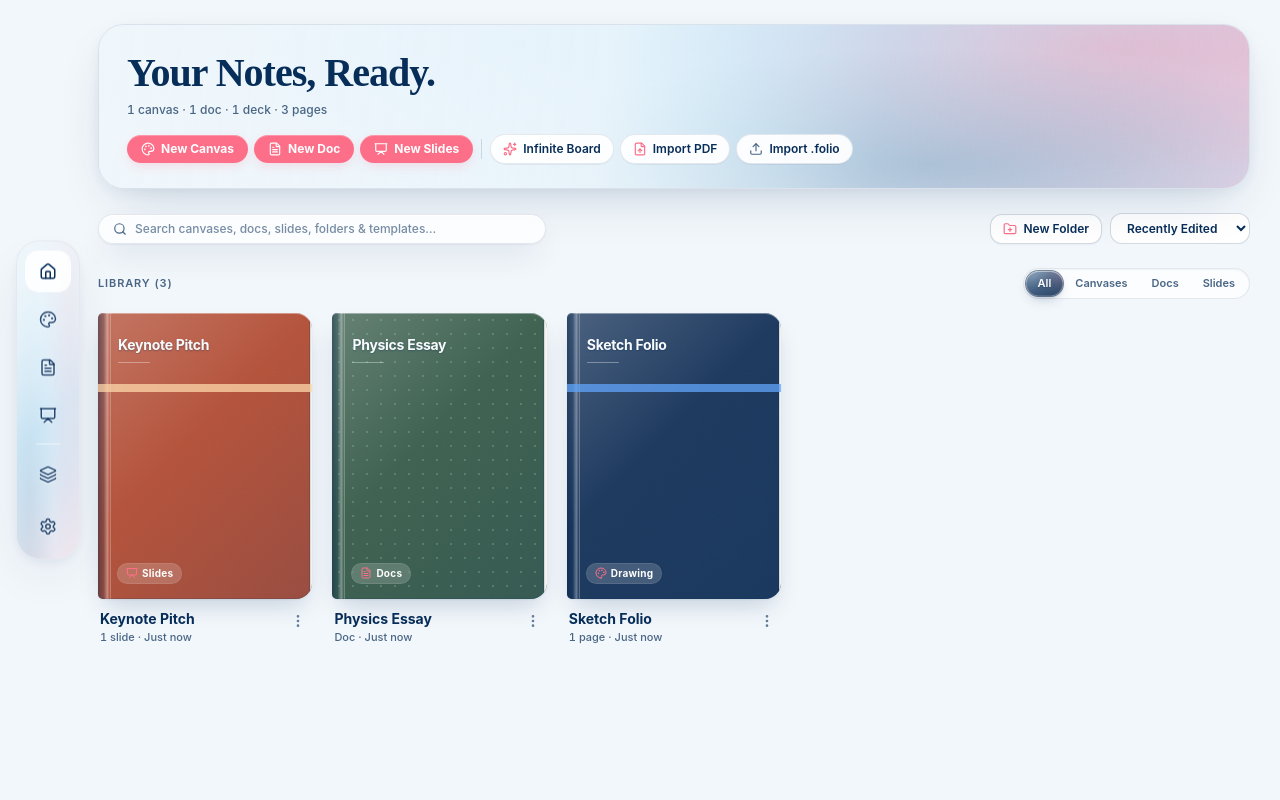
Test: Milestone 1: 3-Mode Workspace Organization & Drawing Board Guardrails › filters HomeShelf across All, Drawing Board, Notes, and Slides via left nav rail with distinct cover badges
Expected: the element with test id "drawing-cover-badge" is shown, [587, 564, 661, 582]
Expected: the element with test id "notes-cover-badge" is shown, [352, 564, 410, 583]
Click the button with test id "rail-nav-drawing". click: (48, 320)
box: [26, 300, 70, 340]
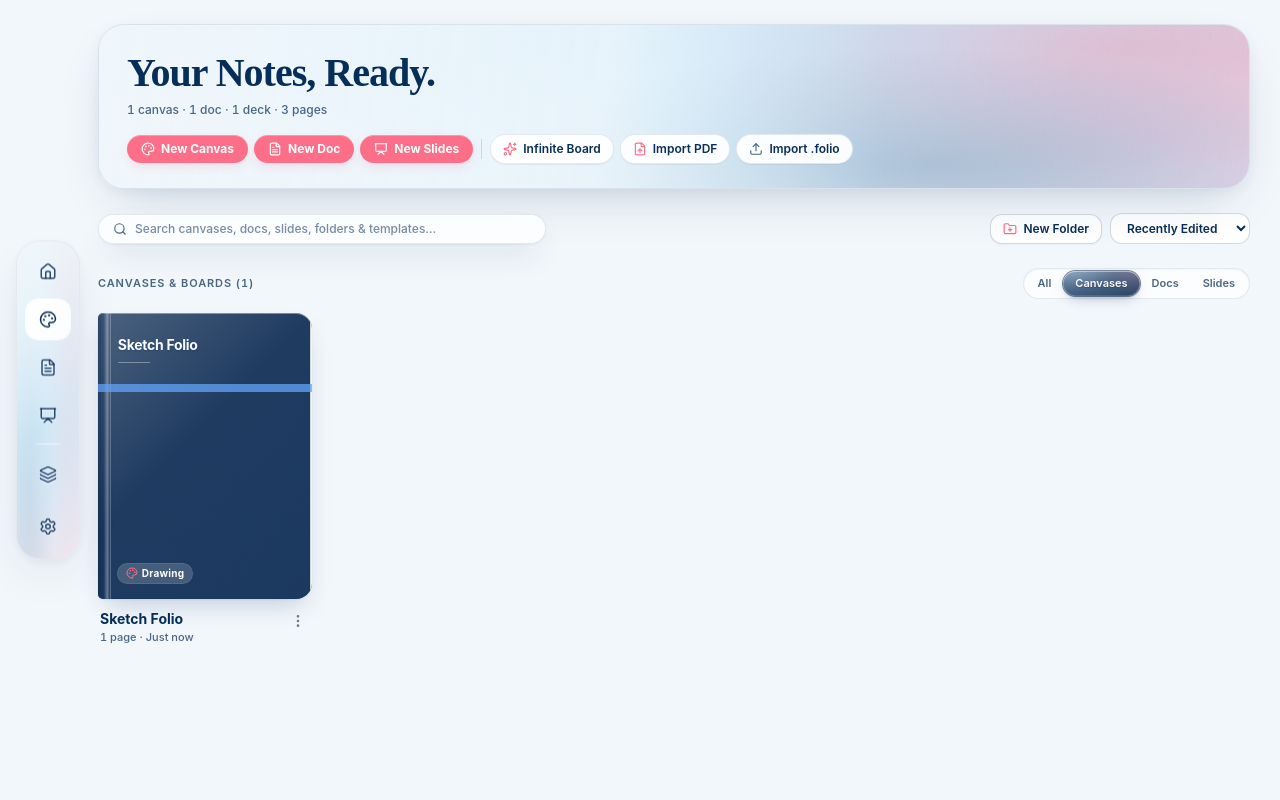
Expected: the text "Sketch Folio" is shown, [118, 336, 198, 353]
Result: the text "Physics Essay" is gone
Result: the text "Keynote Pitch" is gone
Click the button with test id "rail-nav-notes". click: (48, 368)
box: [26, 348, 70, 388]
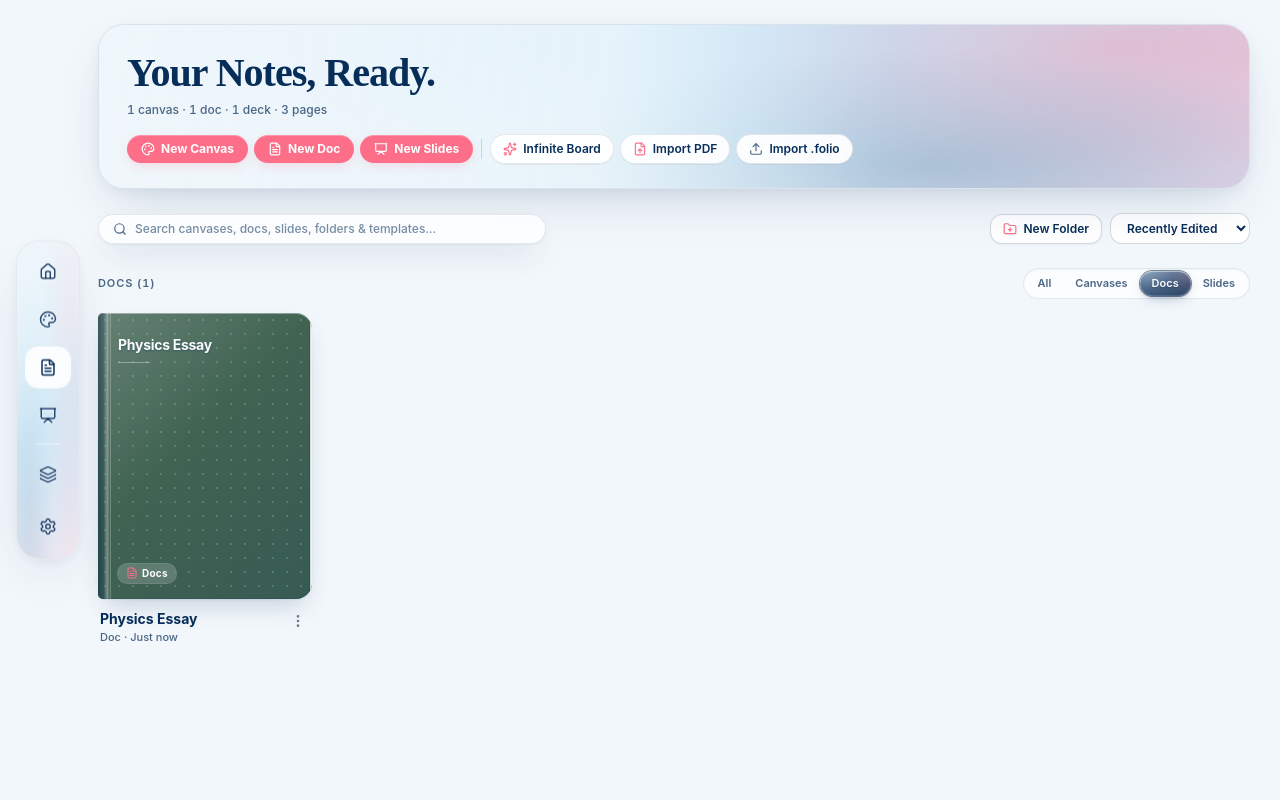
Expected: the text "Keynote Pitch" is not shown
Result: the text "Sketch Folio" is gone
Result: the text "Physics Essay" is shown at [118, 336, 212, 353]
Click the button with test id "rail-nav-slides". click: (48, 416)
box: [26, 396, 70, 436]
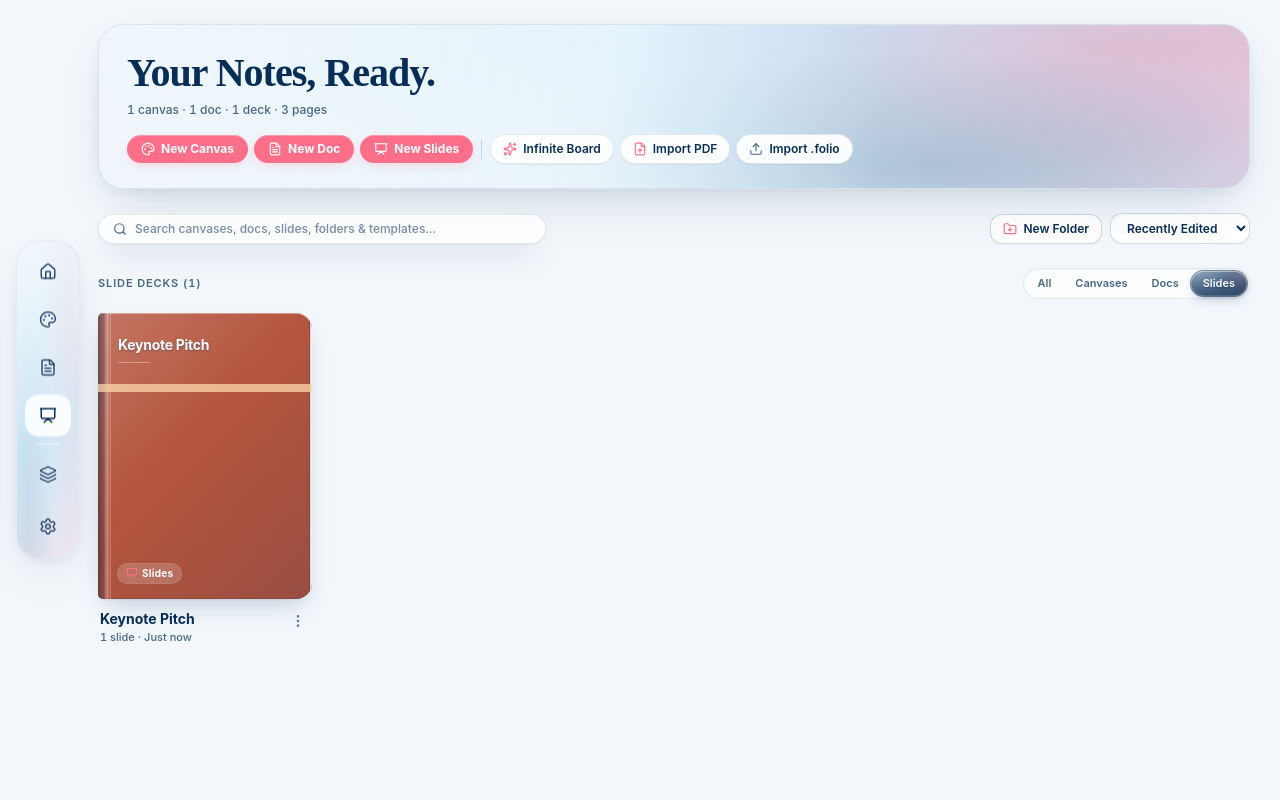
Expected: the text "Sketch Folio" is not shown
Result: the text "Physics Essay" is gone
Result: the text "Keynote Pitch" is shown at [118, 336, 209, 353]
Click the button with test id "rail-nav-home". click: (48, 272)
box: [26, 252, 70, 292]
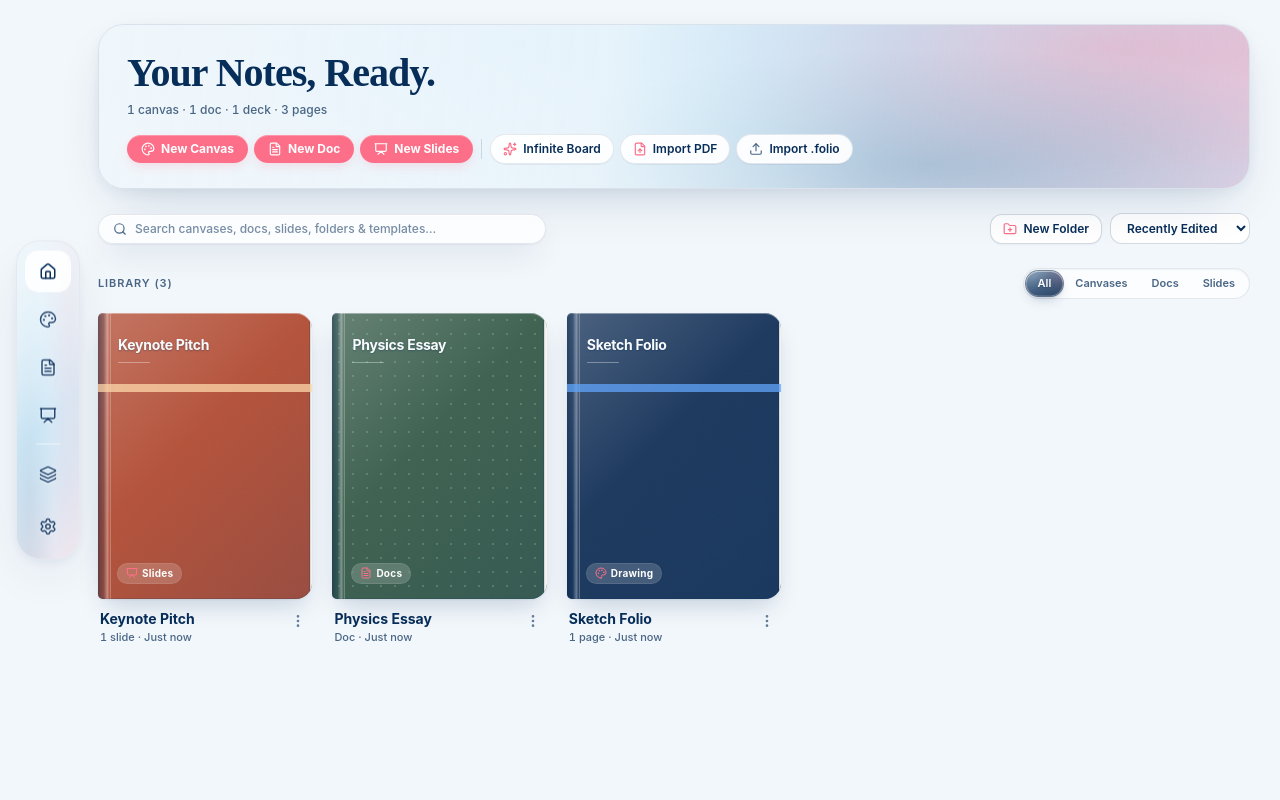
Result: the text "Keynote Pitch" is shown at [118, 336, 209, 353]
Result: the text "Sketch Folio" is shown at [587, 336, 667, 353]
Result: the text "Physics Essay" is shown at [352, 336, 446, 353]
